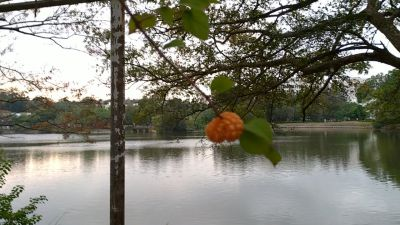eggs: (206, 111, 243, 144)
